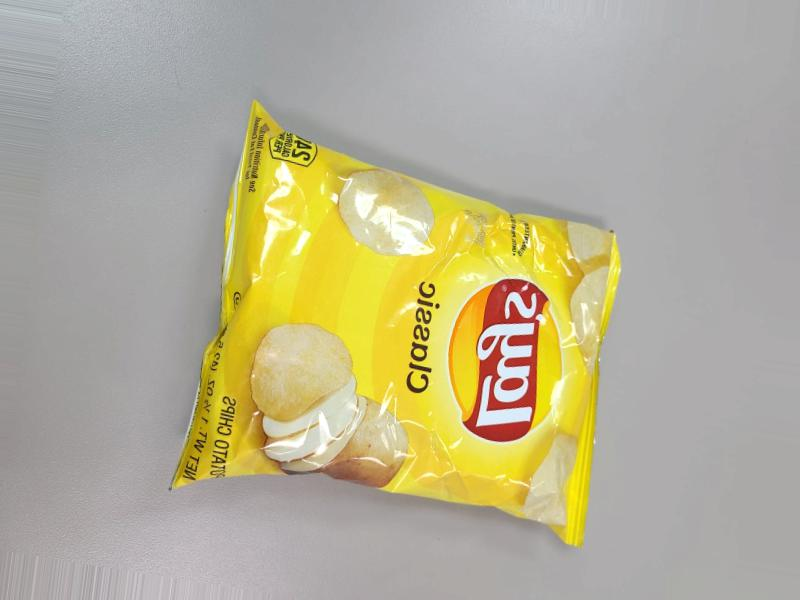lays: (246, 57, 629, 578)
